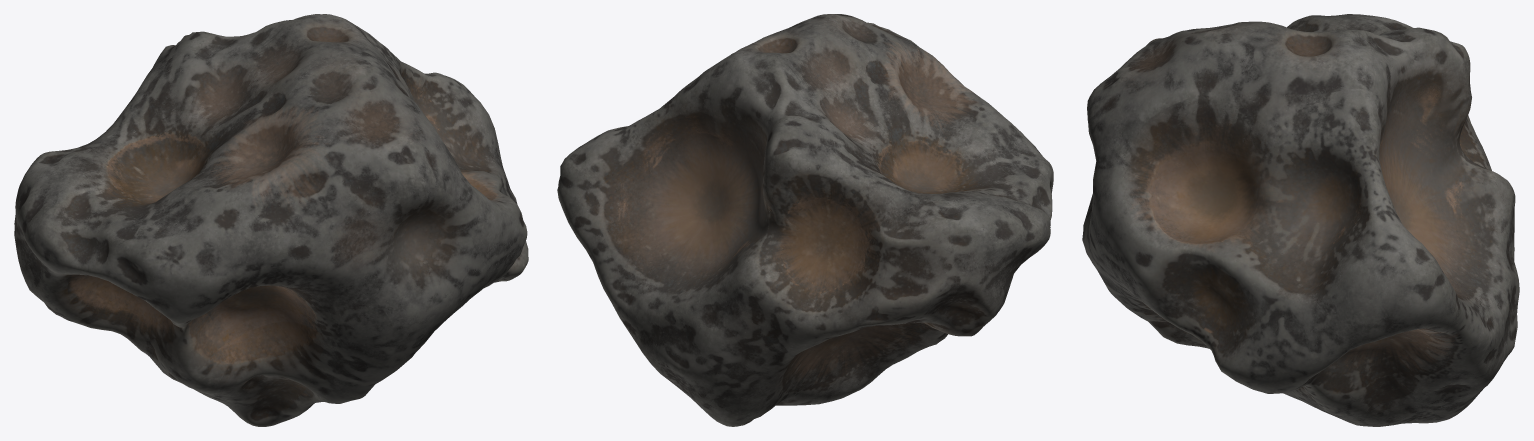
The model's file is Asteroid_2d.glb.
3 renders of one model, left to right at view 1: azimuth 30°, elevation 25°; view 2: azimuth 150°, elevation 25°; view 3: azimuth 270°, elevation 25°, orthographic. The views are drawn at different scales.
Visible parts, largest first — view 1: Asteroid_2d; view 2: Asteroid_2d; view 3: Asteroid_2d.
Boxes of the visible parts, x1,y1,x2,y2 form: Asteroid_2d: (14,14,528,426); Asteroid_2d: (557,14,1053,426); Asteroid_2d: (1082,14,1519,426).
Bounding box in the file's own units: 2.3 × 1.7 × 1.72.
1 material, 1 textured.
